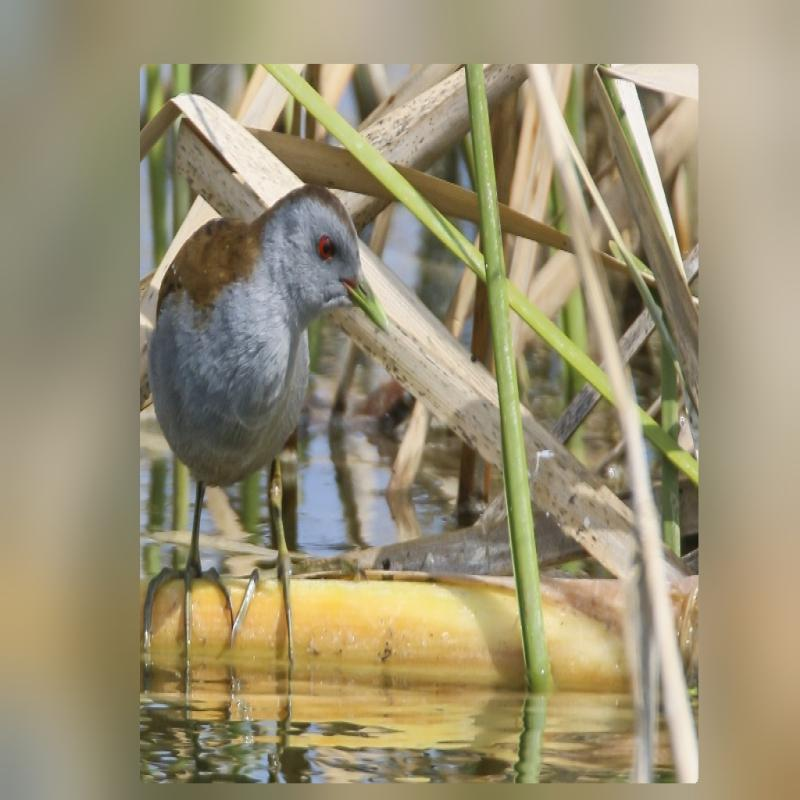little crake: (148, 174, 398, 564)
